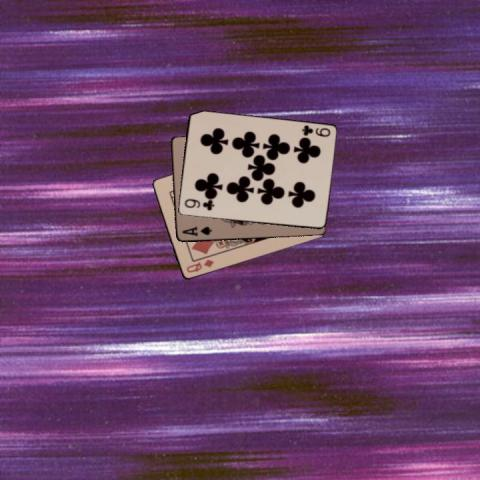9c: (299, 122, 331, 138), (182, 197, 215, 212)
As: (179, 223, 213, 238)
Qd: (183, 257, 215, 274)
